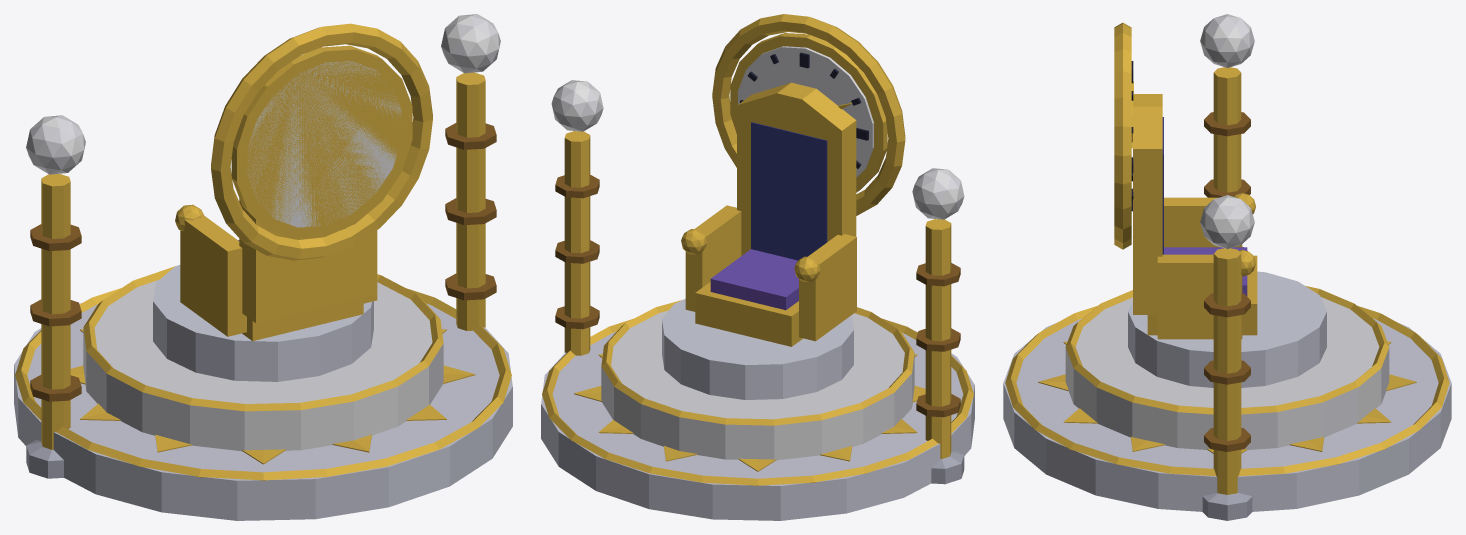
Rendered from Decor_ClockTower_TimeThrone.fbx.
3 renders of one model, left to right at view 1: azimuth 30°, elevation 25°; view 2: azimuth 150°, elevation 25°; view 3: azimuth 270°, elevation 25°, orthographic. The views are drawn at different scales.
Parts seen in each view (by area): view 1: TimeThrone_Body; view 2: TimeThrone_Body; view 3: TimeThrone_Body.
Boxes of the visible parts, <box> form: TimeThrone_Body: <box>14,14,512,520</box>; TimeThrone_Body: <box>541,14,974,520</box>; TimeThrone_Body: <box>1003,14,1451,520</box>.
Size of the model in its own units: 19.4 by 17.1 by 18.
